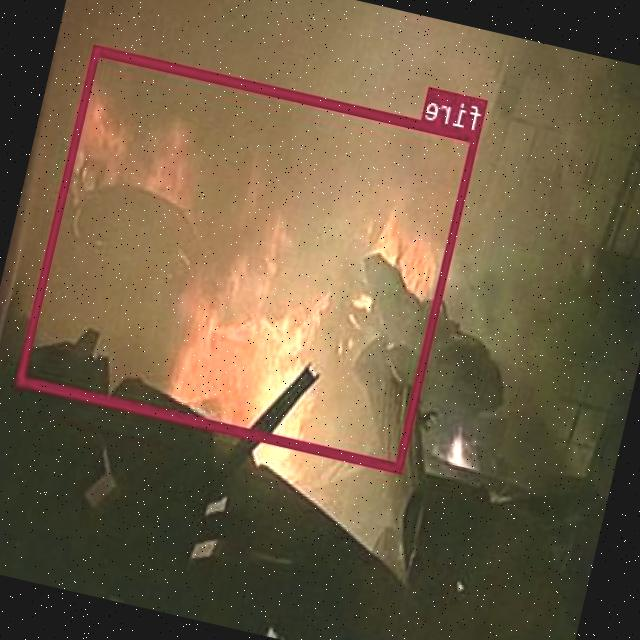fire: (19, 42, 482, 472)
